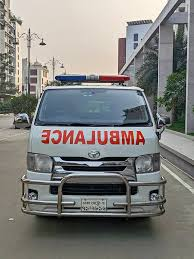Ambulance: (19, 70, 169, 224)
